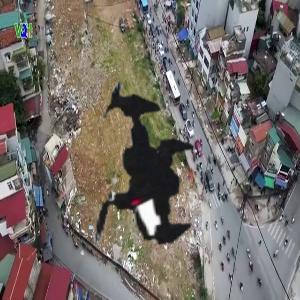drone: (7, 45, 259, 297)
